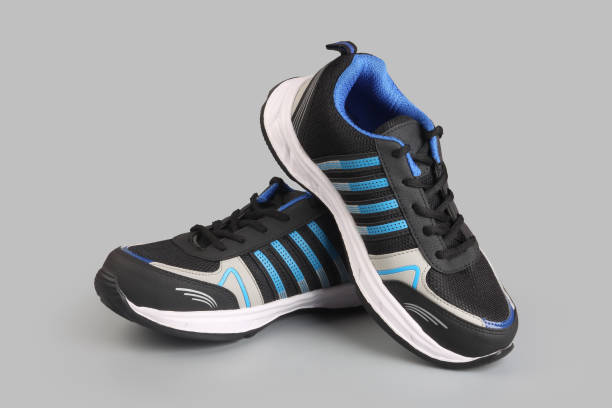Footwear: (258, 35, 537, 371)
